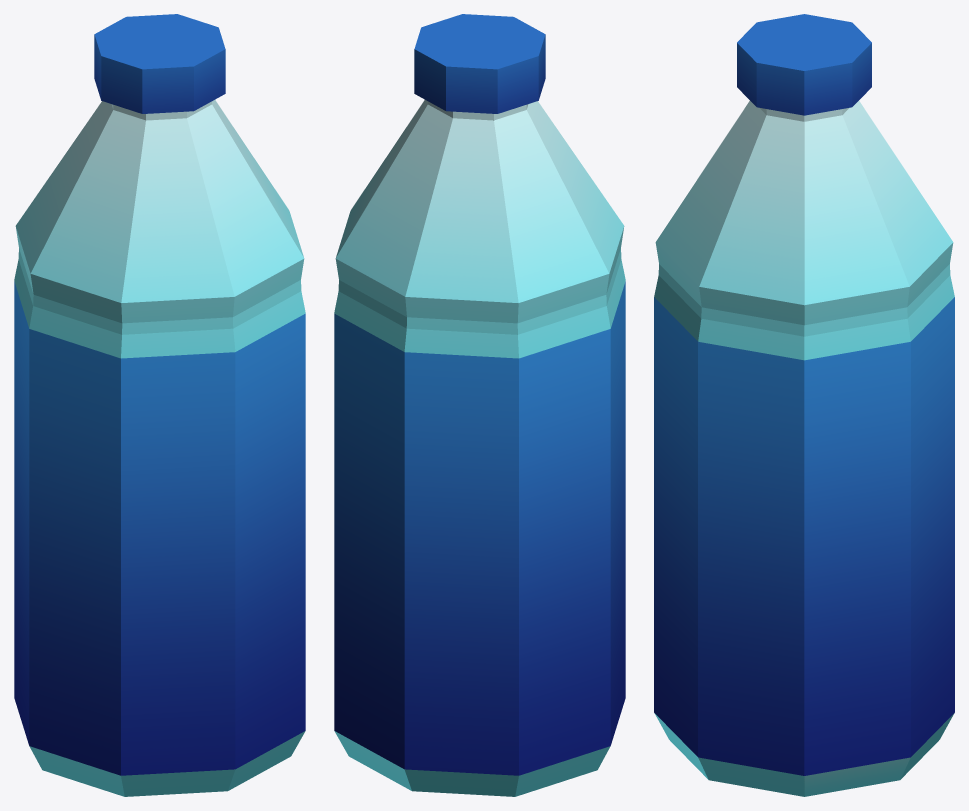
File: water.glb
3 views of the same model, side by side, from view 1: azimuth 30°, elevation 25°; view 2: azimuth 150°, elevation 25°; view 3: azimuth 270°, elevation 25° (orthographic).
Visible parts, largest first — view 1: Blue; view 2: Blue; view 3: Blue.
Boxes of the visible parts, x1,y1,x2,y2 form: Blue: (14,14,305,796); Blue: (334,14,625,796); Blue: (654,14,954,796).
Size of the model in its own units: 0.0841 by 0.215 by 0.0841.
Materials: 1 (1 with a texture image).
